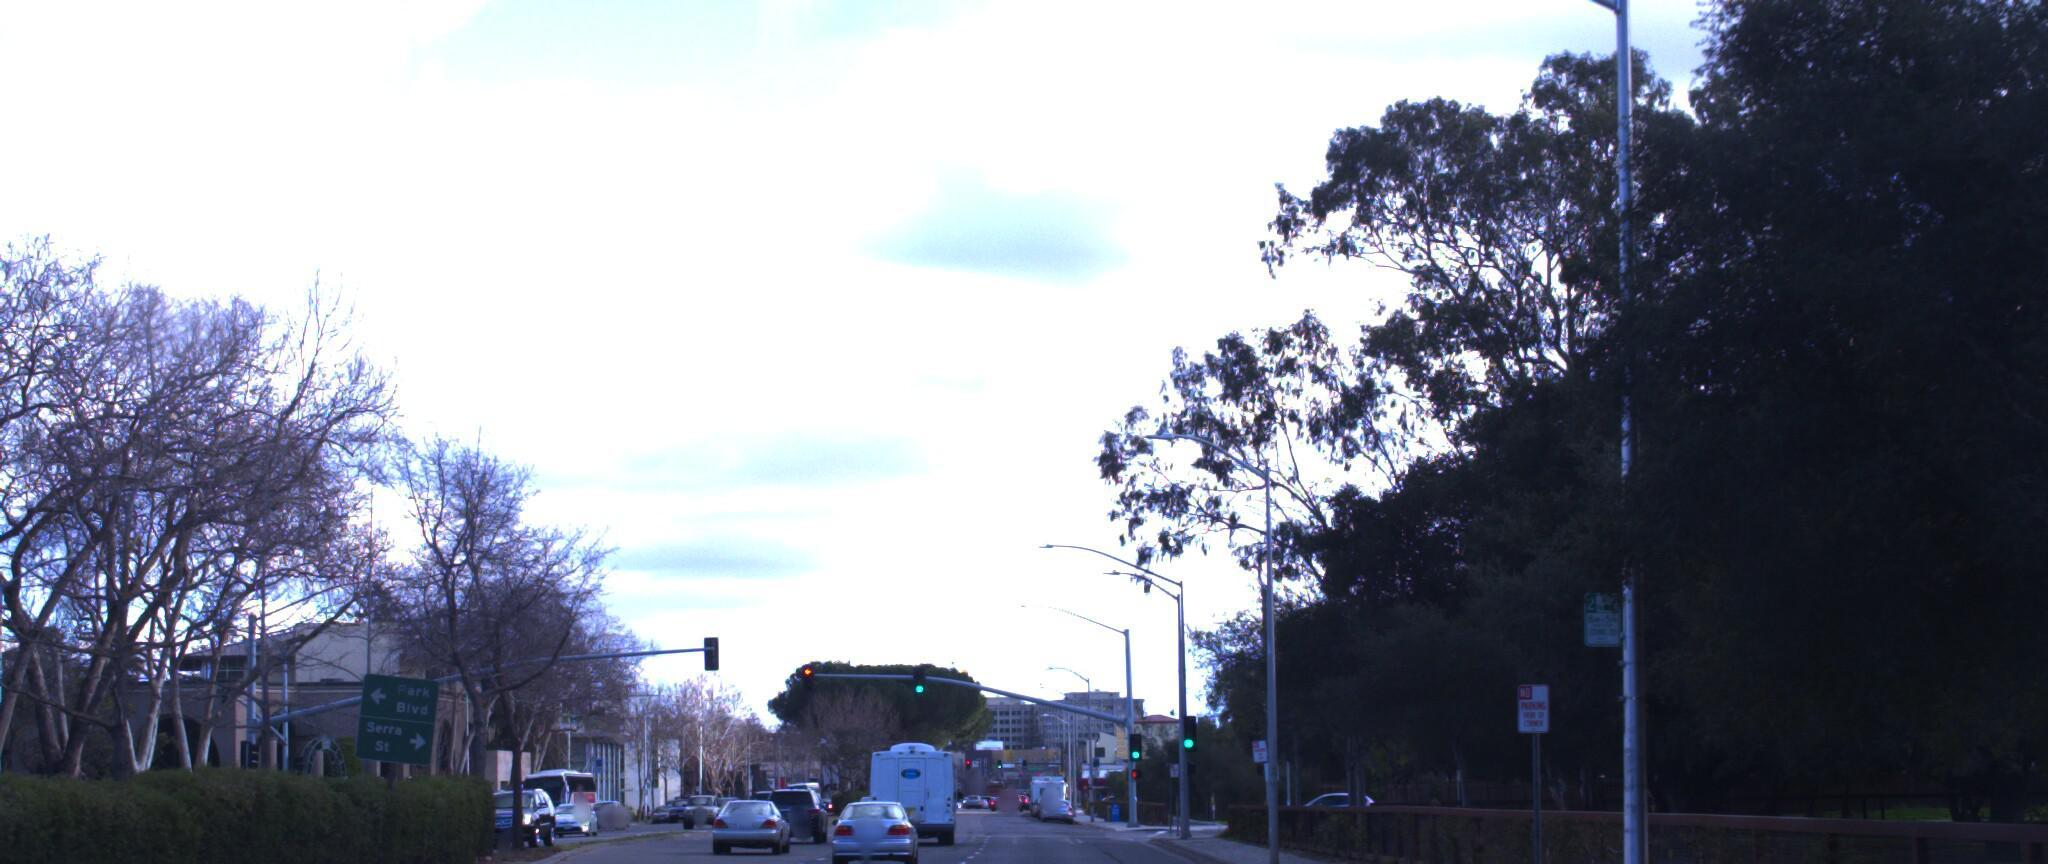car: (829, 774, 926, 855), (717, 773, 801, 831)
